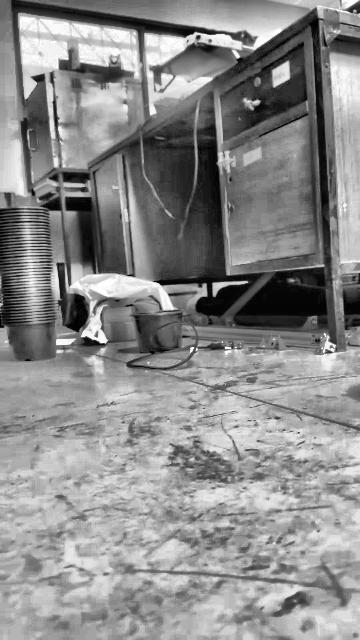pot: (132, 311, 183, 352)
